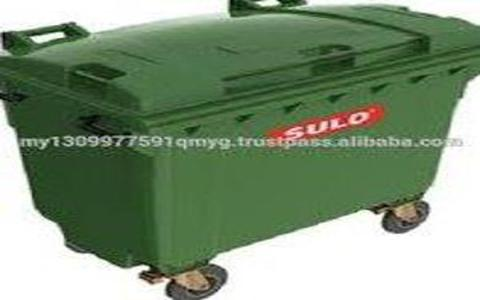Proper garbage: (2, 1, 470, 285)
